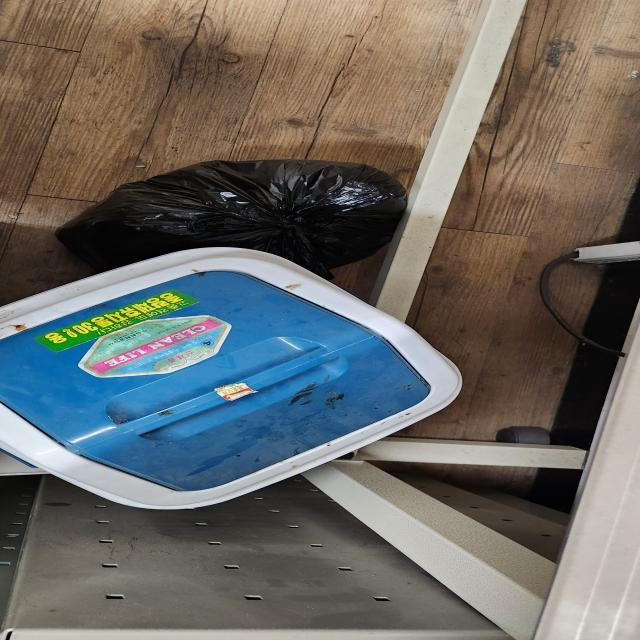black_bag: (54, 159, 410, 282)
